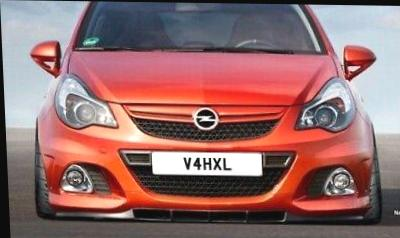License_Plate: (149, 148, 268, 179)
